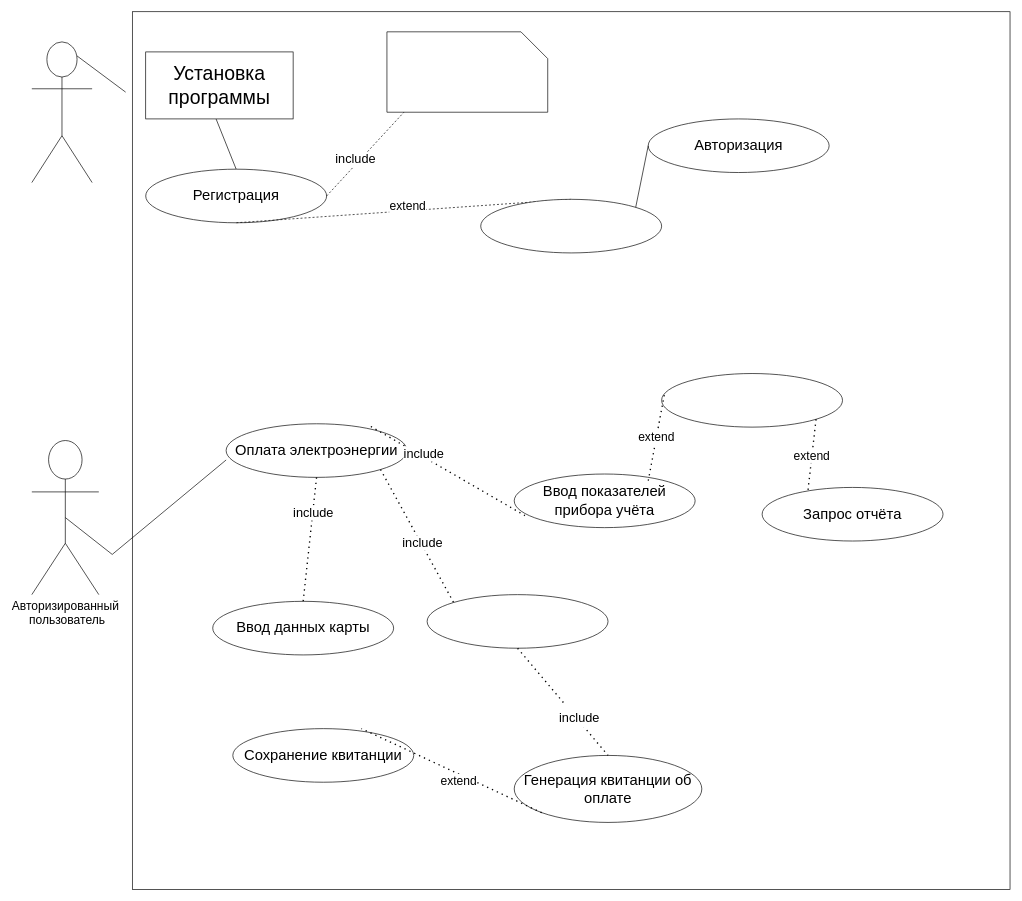
Some shapes in this 1022 by 901 pixel diagram are drawn without their labels. Here are the shapes that lost their labels. From the top down, the box of each, then its label:
(386, 31, 548, 112): Ввод данных
(31, 41, 92, 183): Пользователь
(480, 199, 662, 253): Прикрепление банковской карты
(661, 373, 843, 427): Выбор периода оплаты
(426, 594, 608, 648): Подтверждение оплаты
